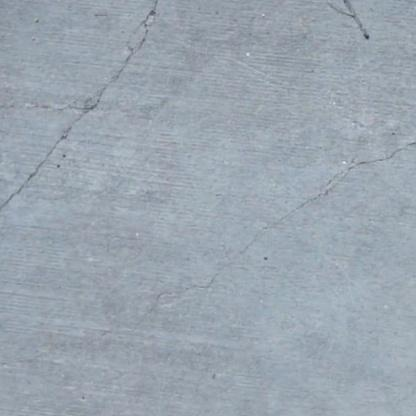Cracks: (0, 116, 416, 373), (0, 0, 189, 237)
